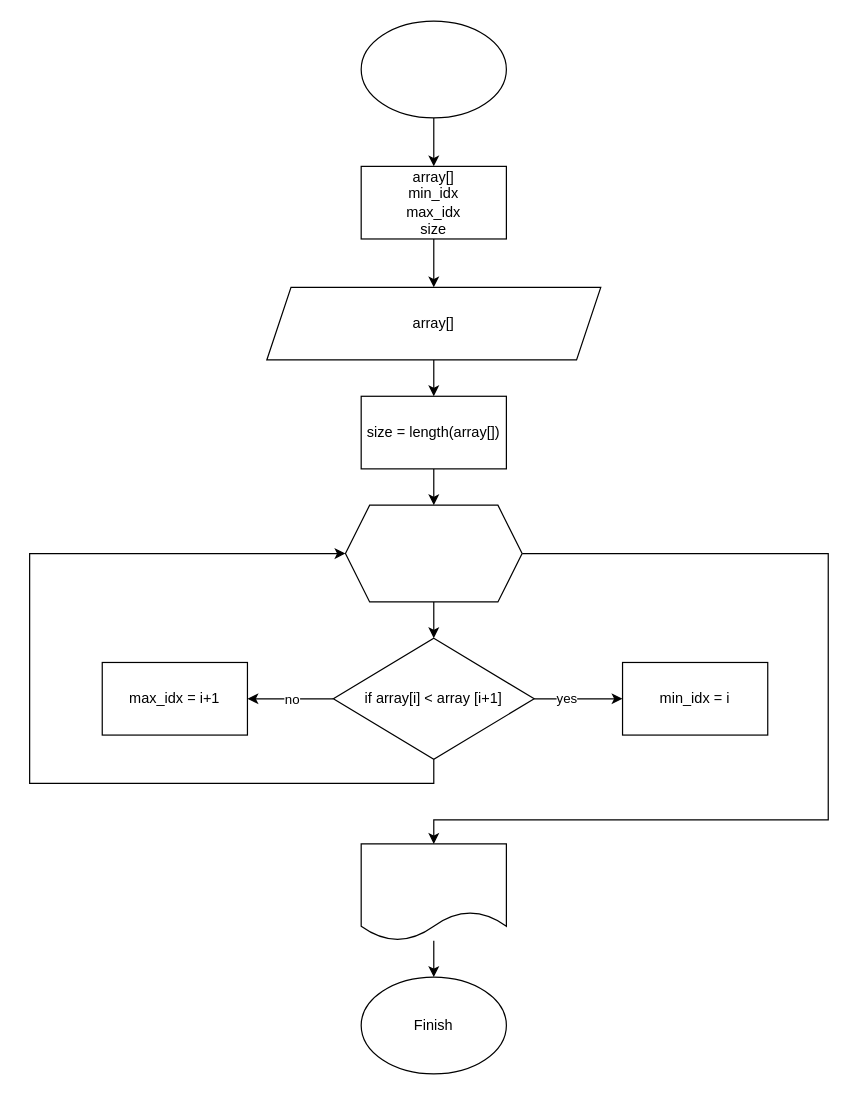
The diagram is 859 pixels wide and 1095 high, and some of its shapes have lost their labels. The shapes that lost their labels are listed below. From the top down, each one's box as (x1, y1, x2, y2) in pixels, then its label:
(360, 20, 506, 118): Start
(344, 504, 522, 602): for (i = 0; i < size - 1; i++)
(360, 843, 506, 941): max_idx min_idx
